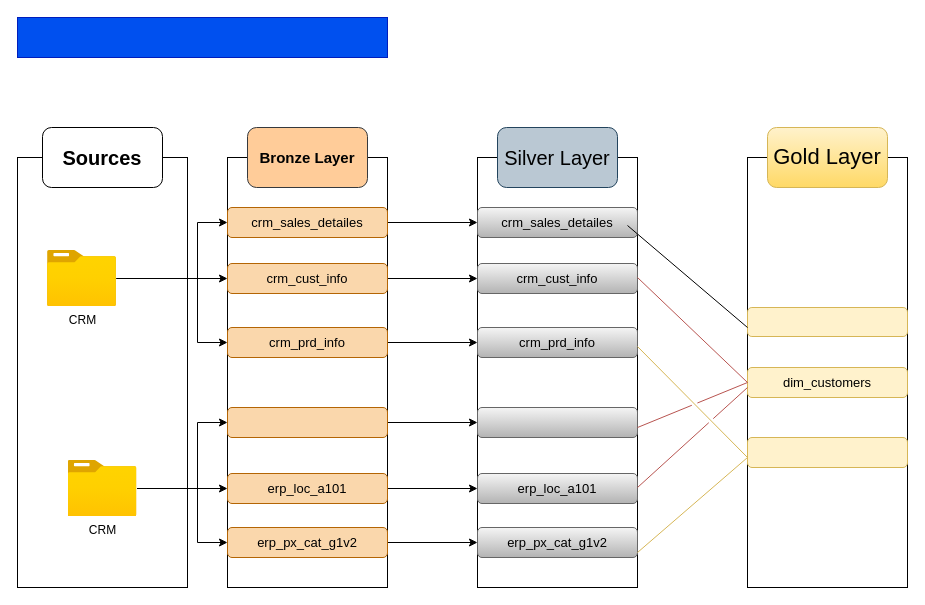
This 925x605 diagram has some shape labels left out. Here are the shapes that lost their labels. From the top down, the centre of each, then its label:
(x=202, y=37): DATA FLOW DIAGRAM
(x=827, y=321): fact_sales
(x=307, y=422): erp_custaz12
(x=557, y=422): erp_cust_az12
(x=827, y=452): dim_products
